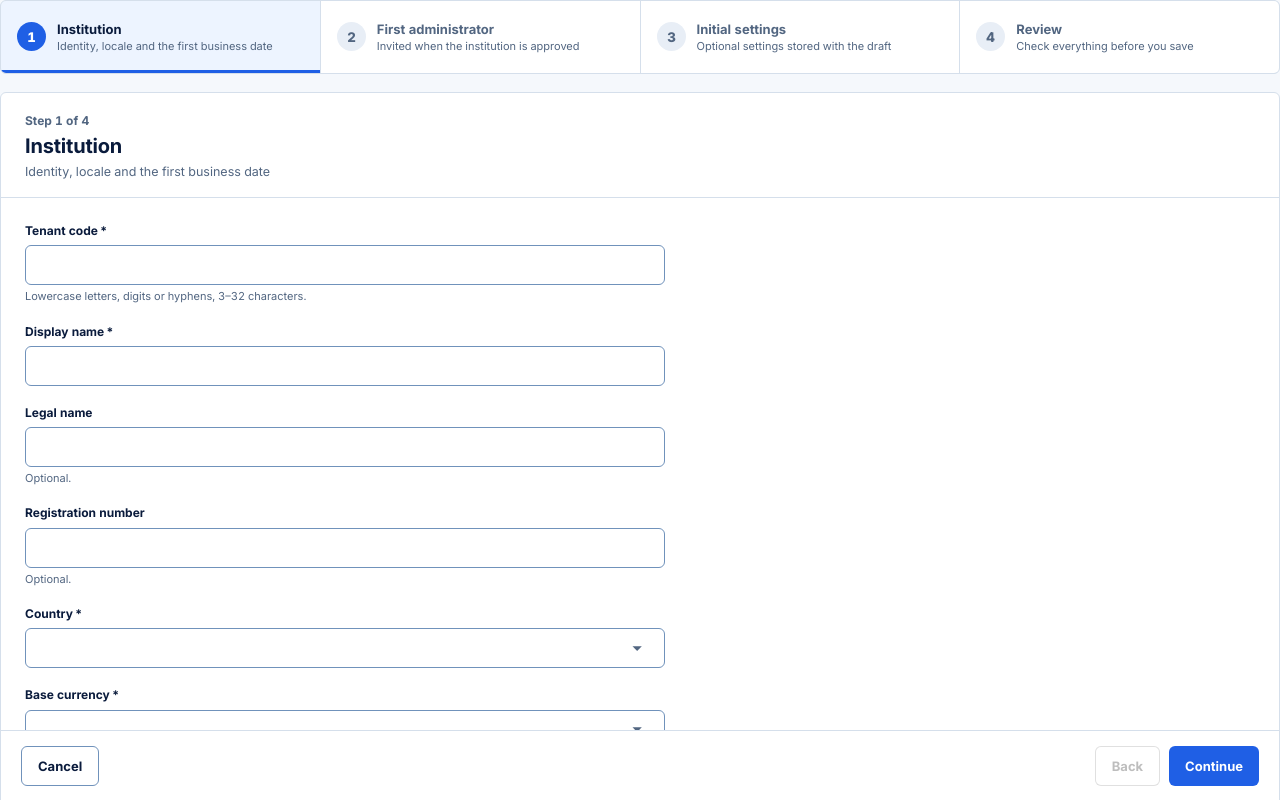
Scenario: TenantDraftWizard › summarises a step's invalid fields and focuses the first one
Click the button "Continue". click: [1214, 766]
box: [1169,746,1259,786]
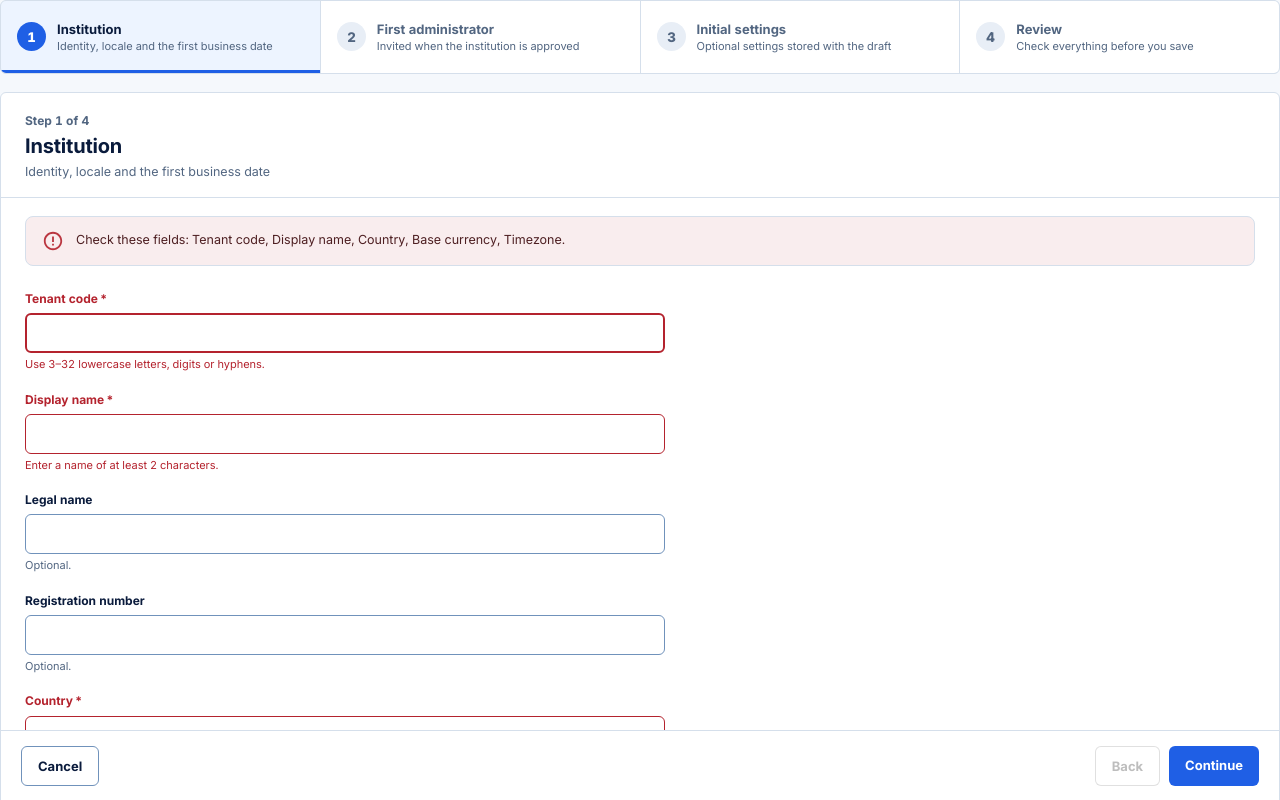
Now the text "Check these fields: Tenant code, Display name, Country, Base currency, Timezone." is shown, box [76,232,565,247]
